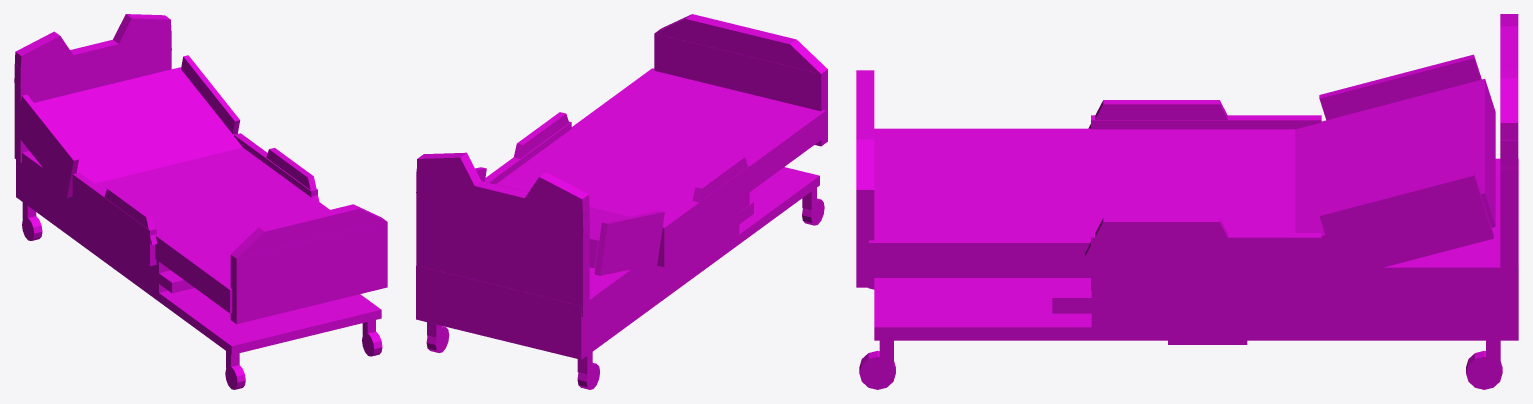
The model's file is SM_HospitalBedCollider.fbx.
The picture shows the model from 3 angles, left to right: view 1: azimuth 30°, elevation 25°; view 2: azimuth 150°, elevation 25°; view 3: azimuth 270°, elevation 25°; orthographic projection. The views are drawn at different scales.
Parts seen in each view (by area): view 1: HospitalBedCollision; view 2: HospitalBedCollision; view 3: HospitalBedCollision.
Part boxes in pixels (x1=…): HospitalBedCollision: x1=14, y1=14, x2=387, y2=389; HospitalBedCollision: x1=416, y1=14, x2=827, y2=389; HospitalBedCollision: x1=856, y1=14, x2=1518, y2=389.
Size of the model in its own units: 124 by 135 by 283.
